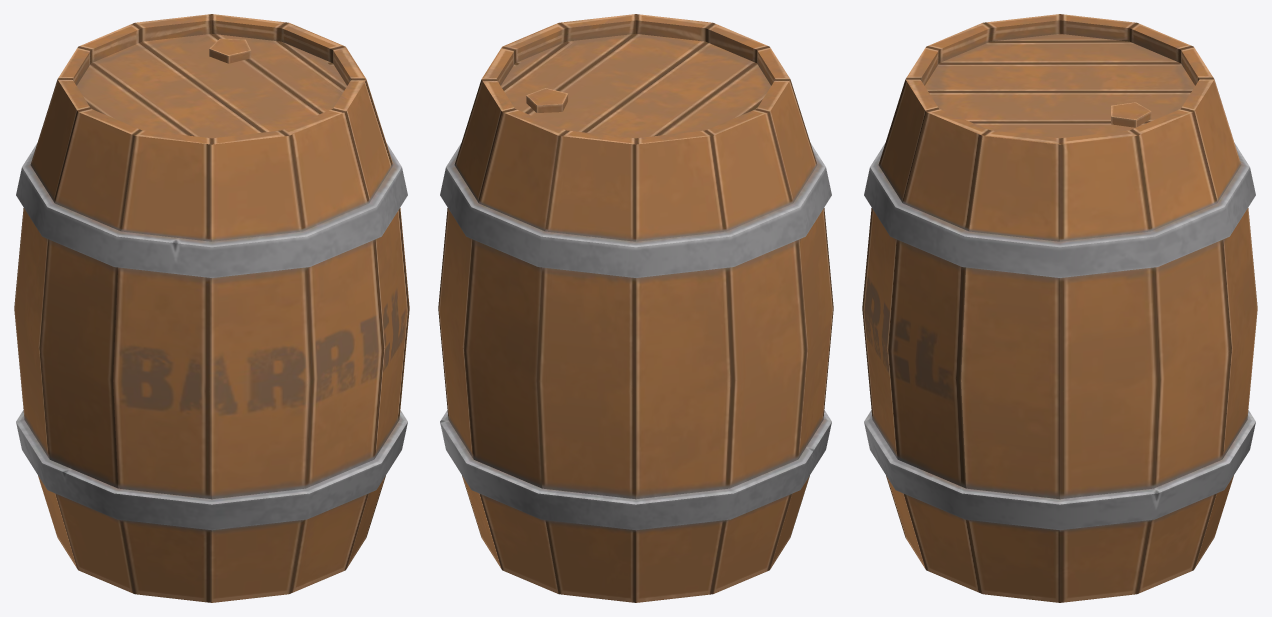
Rendered from barrel_LOD.fbx.
3 views of the same model, side by side, from view 1: azimuth 30°, elevation 25°; view 2: azimuth 150°, elevation 25°; view 3: azimuth 270°, elevation 25° (orthographic).
Parts seen in each view (by area): view 1: bARREL_LOD0; view 2: bARREL_LOD0; view 3: bARREL_LOD0.
Part boxes in pixels (bbox=[...]): bARREL_LOD0: bbox=[14, 14, 409, 602]; bARREL_LOD0: bbox=[438, 14, 833, 602]; bARREL_LOD0: bbox=[862, 14, 1257, 602].
Size of what is drawn, in the model's own units: 70.39 by 90 by 70.39.
Materials: 1 (1 with a texture image).
